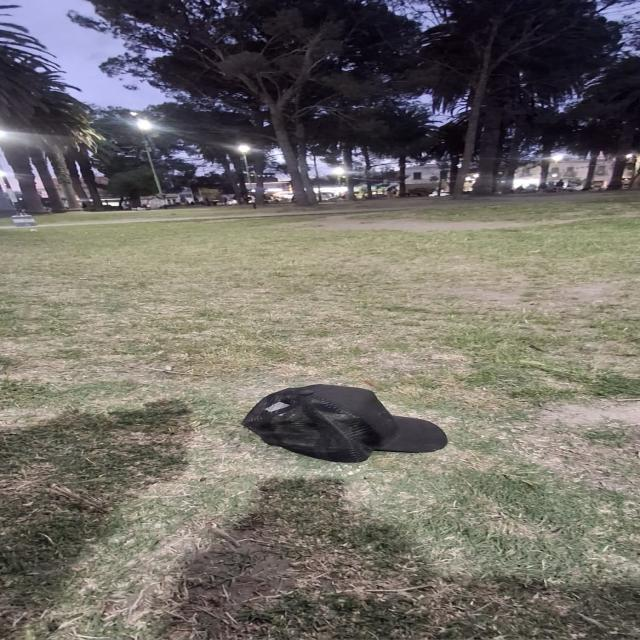Gorra: (245, 384, 450, 465)
